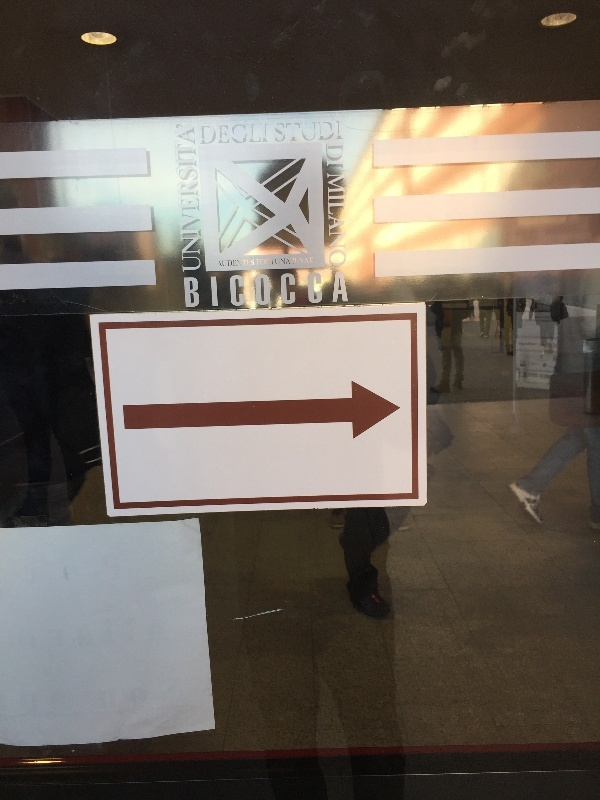text: (177, 124, 192, 277), (193, 124, 203, 277), (325, 141, 336, 274), (337, 141, 348, 274), (193, 271, 208, 310), (209, 271, 224, 310), (225, 271, 240, 310), (241, 271, 256, 310), (257, 271, 272, 310), (273, 271, 288, 310), (289, 271, 304, 310), (305, 271, 320, 310), (321, 271, 336, 310), (337, 271, 351, 310), (209, 119, 224, 148), (225, 119, 240, 148), (241, 119, 256, 148), (257, 119, 272, 148), (273, 119, 288, 148), (289, 119, 304, 148), (305, 119, 320, 148), (321, 119, 336, 148), (182, 271, 192, 310), (337, 119, 345, 148), (201, 119, 208, 148), (225, 258, 240, 271), (241, 258, 256, 271), (257, 258, 272, 271), (273, 258, 288, 271), (289, 258, 304, 271), (175, 124, 176, 277), (305, 258, 316, 271), (218, 258, 224, 271)
